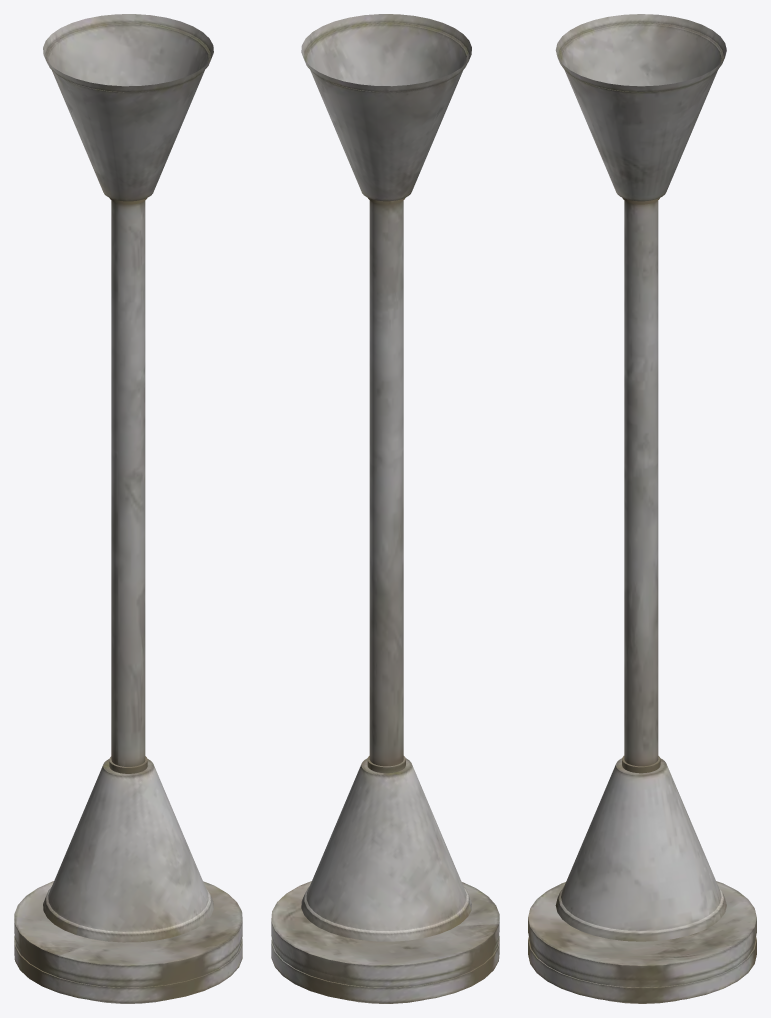
The model's file is ceiling-fan.glb.
3 views of the same model, side by side, from view 1: azimuth 30°, elevation 25°; view 2: azimuth 150°, elevation 25°; view 3: azimuth 270°, elevation 25° (orthographic).
Visible parts, largest first — view 1: Cylinder.004; view 2: Cylinder.004; view 3: Cylinder.004.
Part boxes in pixels (bbox=[...]): Cylinder.004: bbox=[14, 14, 242, 1003]; Cylinder.004: bbox=[271, 14, 499, 1003]; Cylinder.004: bbox=[528, 14, 756, 1003].
Size of what is drawn, in the model's own units: 0.205 by 0.912 by 0.205.
Materials: 1 (1 with a texture image).
